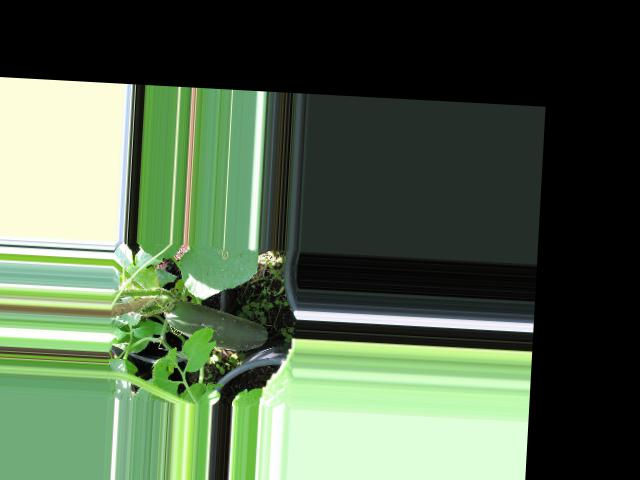cucumber: (163, 299, 269, 351)
